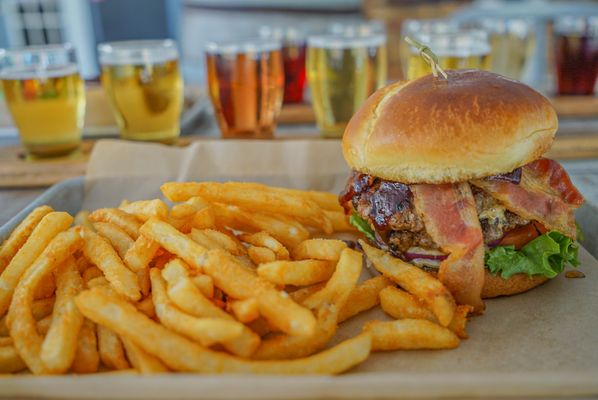pizza: (0, 43, 86, 159), (305, 20, 387, 138), (98, 38, 184, 144), (203, 34, 285, 139)
soup: (338, 67, 586, 309)
